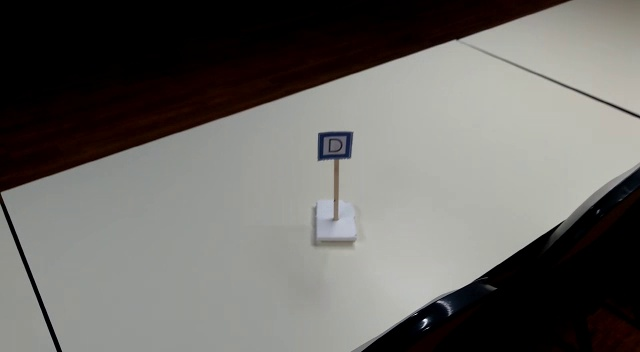durak: (318, 132, 353, 161)
